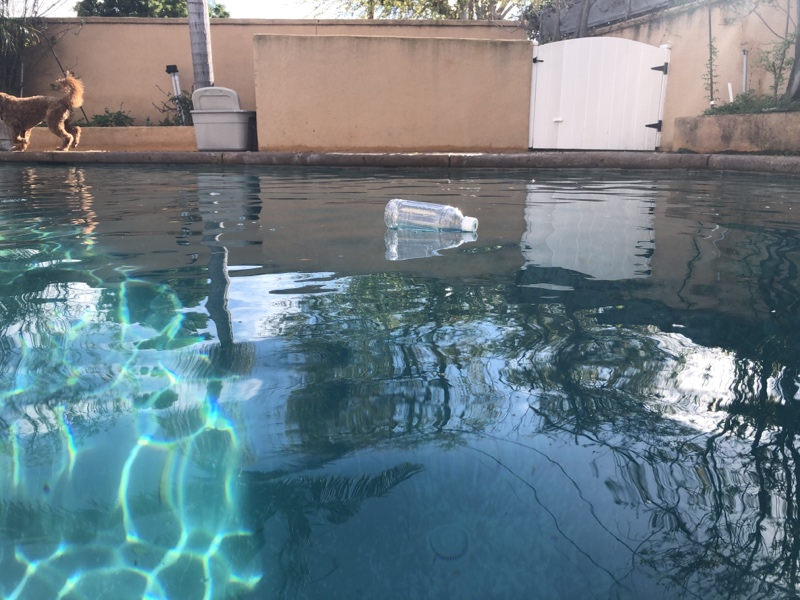Plastic Bottle: (383, 191, 483, 239)
